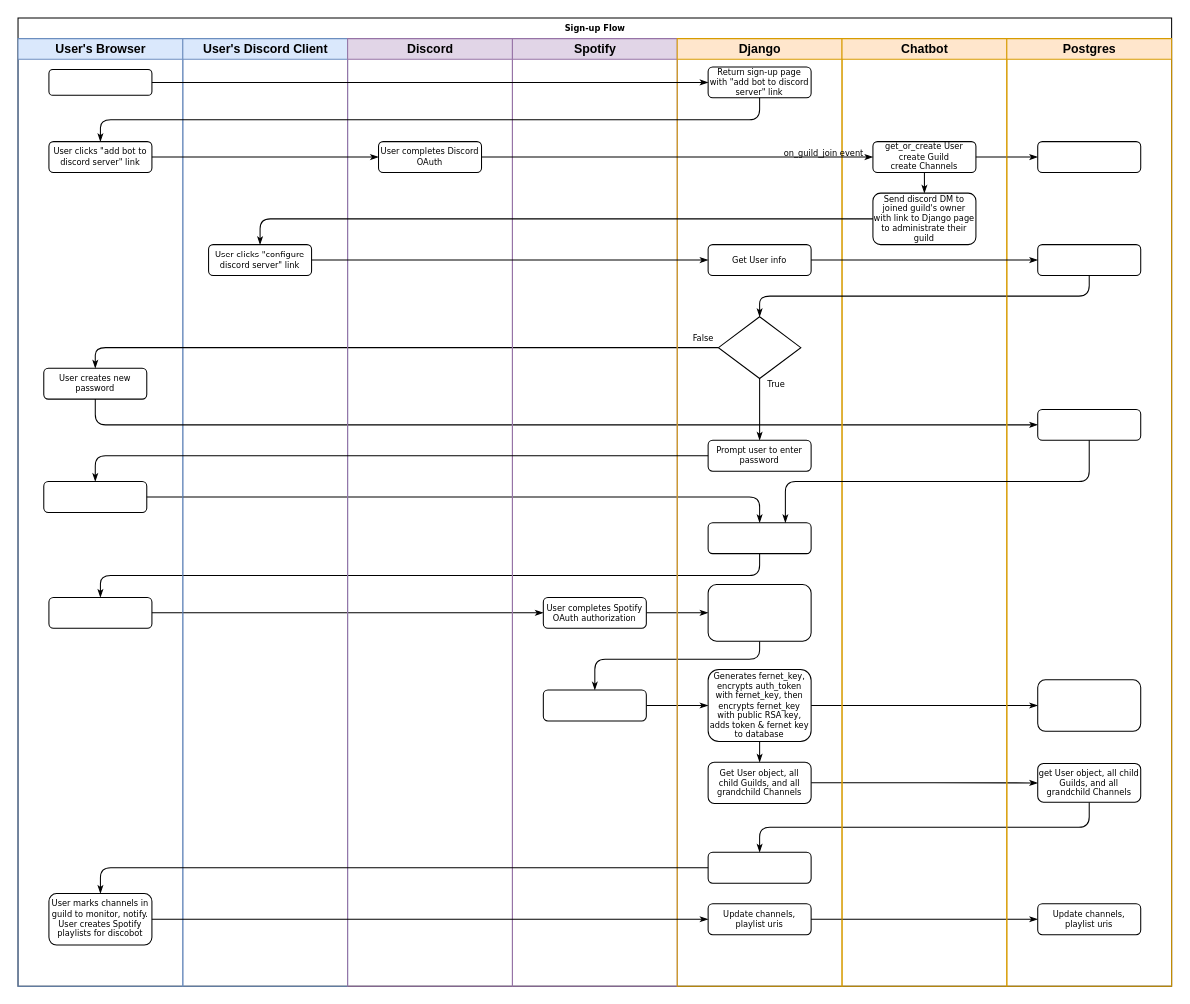
The diagram is 1190 pixels wide and 1004 high, and some of its shapes have lost their labels. Here are the shapes that lost their labels. From the top down, the centre of each, then its label:
(100,81): User goes to discobot url
(1089,157): User, Guild, Channels created
(1089,260): get User
(759,347): User has password
(1089,424): add password to User
(95,496): User enters password
(759,538): Return page with link for Spotify OAuth setup
(100,612): User clicks Spotify OAuth link
(759,612): Receive Spotify auth code and trigger Spotify Authorization Code flow
(594,705): Returns auth token
(1089,705): add spotify_auth_token and encrypted_fernet_key to User
(759,867): Send user page to administrate guilds
